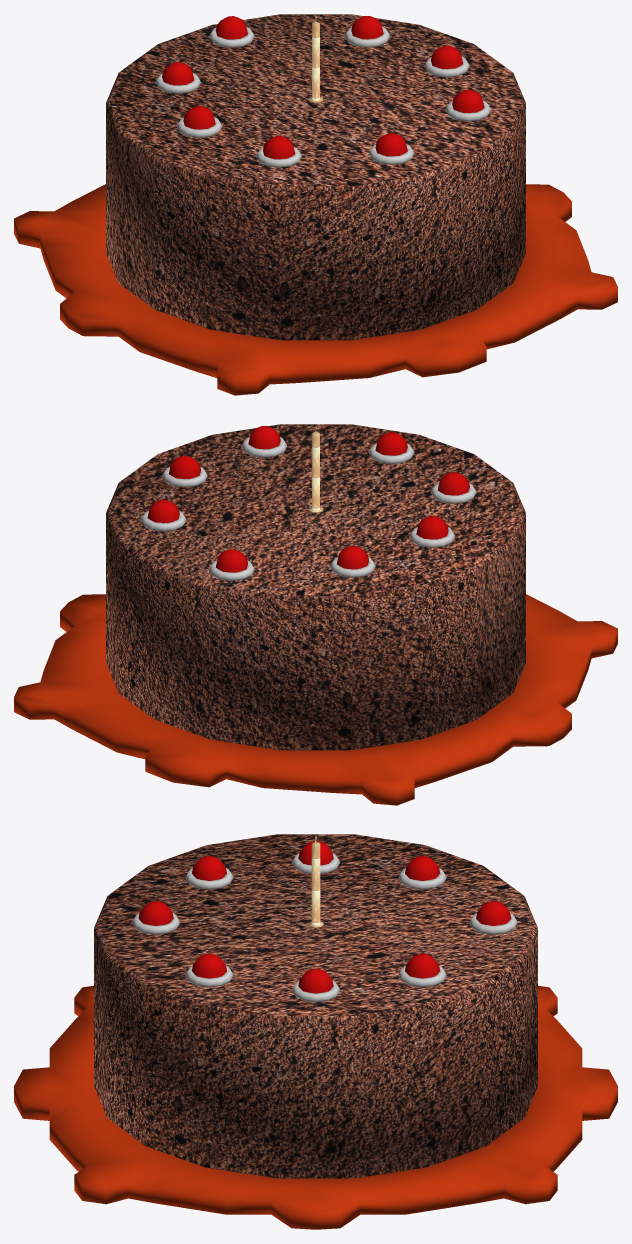
Rendered from cake.obj.
3 views of the same model, one above another, from view 1: azimuth 30°, elevation 25°; view 2: azimuth 150°, elevation 25°; view 3: azimuth 270°, elevation 25° (orthographic). The views are drawn at different scales.
Visible parts, largest first — view 1: Sphere.004, Sphere.005, Sphere.001, Sphere.003, Sphere.002; view 2: Sphere.004, Sphere.005, Sphere.001, Sphere.003, Sphere.002; view 3: Sphere.004, Sphere.005, Sphere.001, Sphere.003, Sphere.002.
Boxes of the visible parts, <box> form: Sphere.004: <box>106,14,525,340</box>; Sphere.005: <box>14,184,617,395</box>; Sphere.001: <box>162,16,484,159</box>; Sphere.003: <box>155,27,490,167</box>; Sphere.002: <box>308,16,323,103</box>; Sphere.004: <box>106,424,525,750</box>; Sphere.005: <box>14,594,617,805</box>; Sphere.001: <box>147,426,469,572</box>; Sphere.003: <box>141,437,476,580</box>; Sphere.002: <box>308,426,323,513</box>; Sphere.004: <box>94,834,537,1178</box>; Sphere.005: <box>14,985,617,1229</box>; Sphere.001: <box>138,841,511,993</box>; Sphere.003: <box>132,853,517,1002</box>; Sphere.002: <box>308,836,323,928</box>.
Size of the model in its own units: 3.4 by 1.65 by 3.4.
